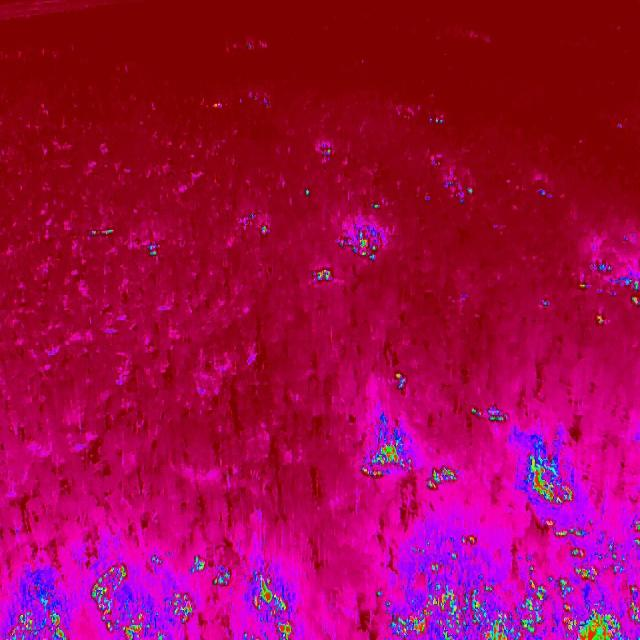fire: (378, 518, 640, 640), (0, 556, 309, 640), (257, 186, 392, 290), (360, 413, 461, 501), (561, 272, 640, 328), (516, 442, 578, 513), (82, 222, 165, 264), (469, 403, 508, 426), (394, 371, 412, 392)
